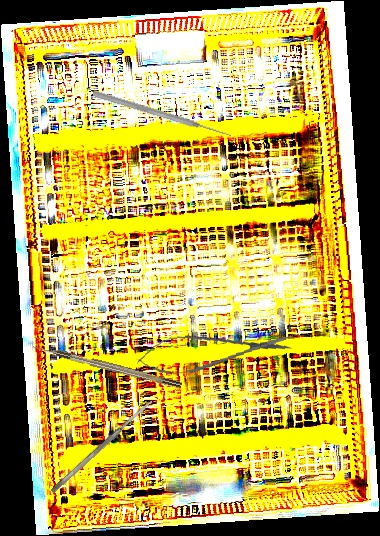Hook Surgical: (31, 342, 183, 390)
Micro Scissor: (134, 322, 296, 381)
Pusher: (91, 89, 233, 140)
Spatula Surgical: (49, 399, 155, 494)
